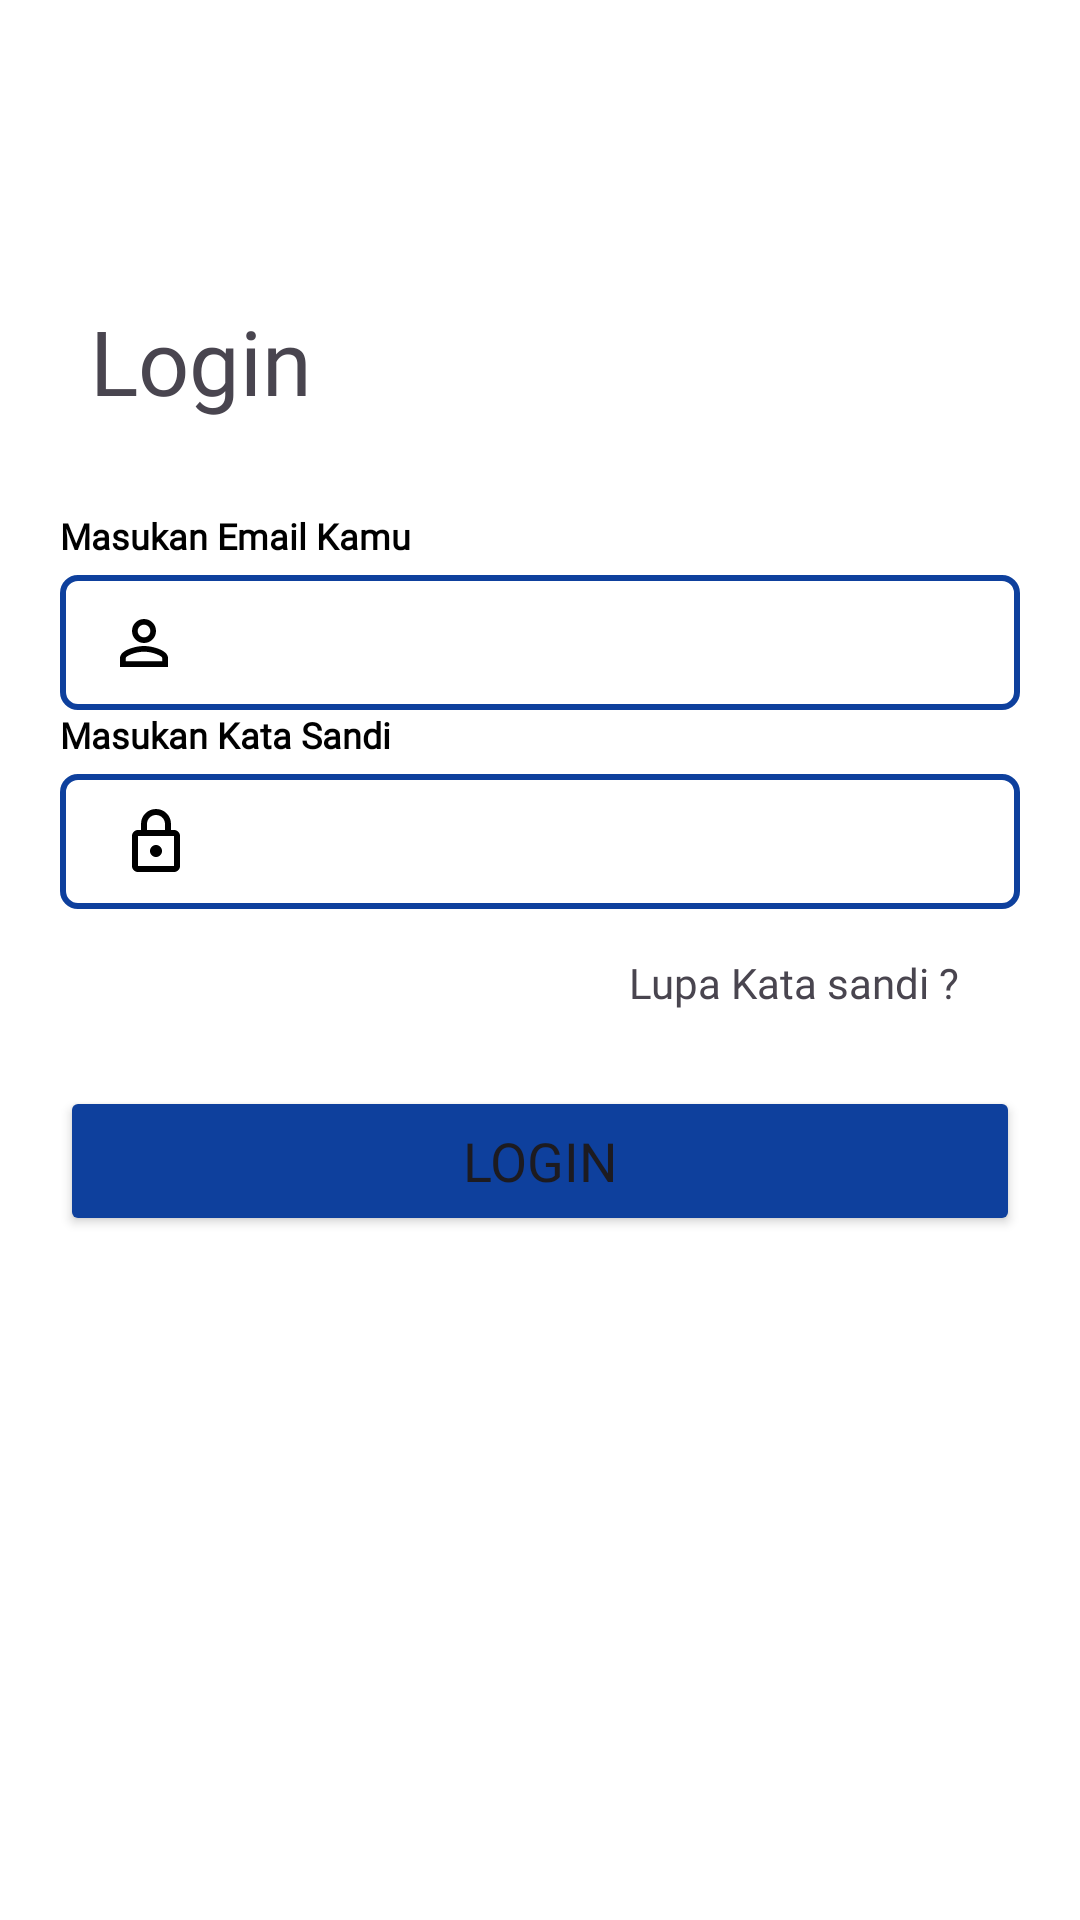

Where icons sit on this 1080×1920 app screen, as (x1, y1, x2, y2):
lock: (132, 809, 180, 872)
user: (120, 619, 168, 667)
